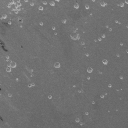corrosion: (5, 62, 17, 73), (97, 34, 107, 43), (73, 31, 82, 41), (53, 60, 61, 70), (27, 81, 37, 89), (85, 66, 94, 74), (72, 3, 81, 11), (114, 17, 122, 26), (101, 58, 109, 66), (99, 1, 108, 8), (47, 2, 57, 8), (116, 2, 126, 8), (15, 4, 23, 11), (17, 18, 25, 25), (46, 93, 53, 100), (84, 110, 91, 117), (38, 4, 44, 12), (74, 116, 80, 124), (84, 5, 91, 11), (99, 93, 105, 100), (7, 19, 13, 26), (119, 41, 125, 48), (118, 74, 124, 81), (38, 20, 44, 26), (61, 19, 67, 25), (85, 52, 91, 58), (50, 25, 56, 31), (91, 99, 96, 106), (107, 83, 112, 89), (86, 75, 91, 81)
